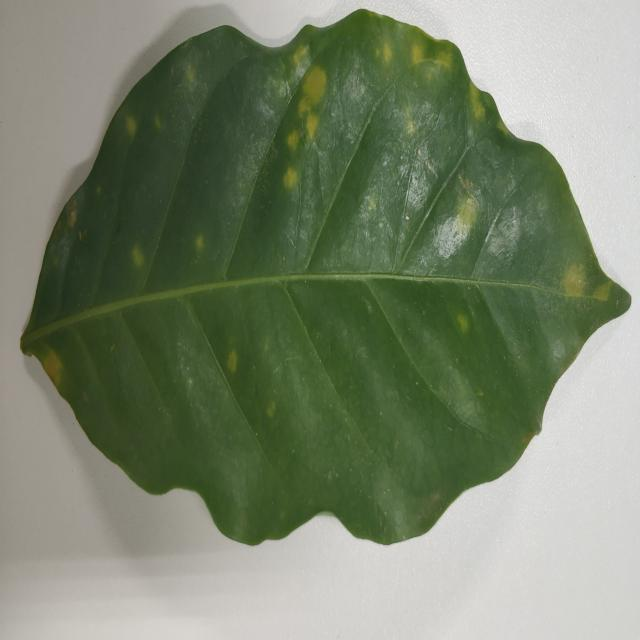Enfermedad-Roya: (19, 11, 632, 550)
